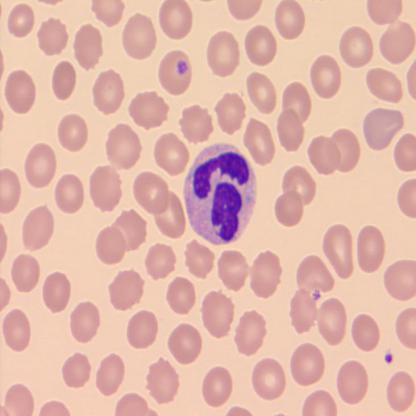Segmented neutrophil: (181, 139, 258, 249)
